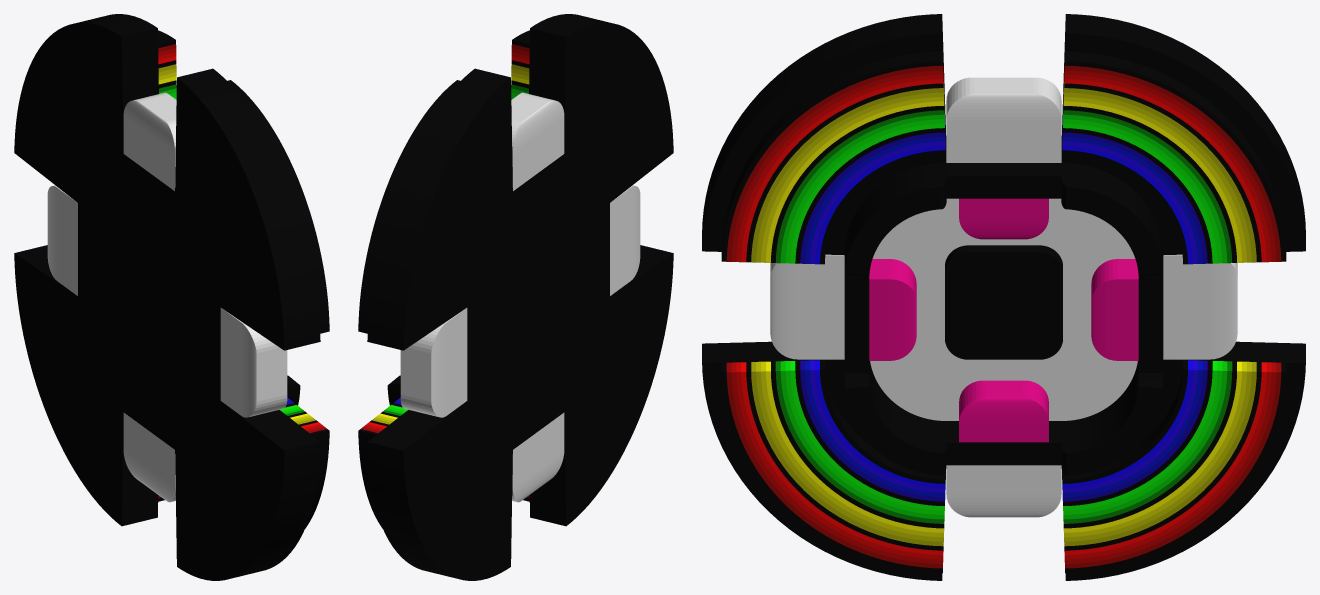
Rendered from spin.fbx.
The picture shows the model from 3 angles, left to right: view 1: azimuth 30°, elevation 25°; view 2: azimuth 150°, elevation 25°; view 3: azimuth 270°, elevation 25°; orthographic projection. The views are drawn at different scales.
Visible parts, largest first — view 1: Cube; view 2: Cube; view 3: Cube.
Boxes of the visible parts, x1=… form: Cube: x1=14, y1=14, x2=329, y2=580; Cube: x1=358, y1=14, x2=673, y2=580; Cube: x1=702, y1=14, x2=1305, y2=580.
Bounding box in the file's own units: 441 × 2585 × 2585.
